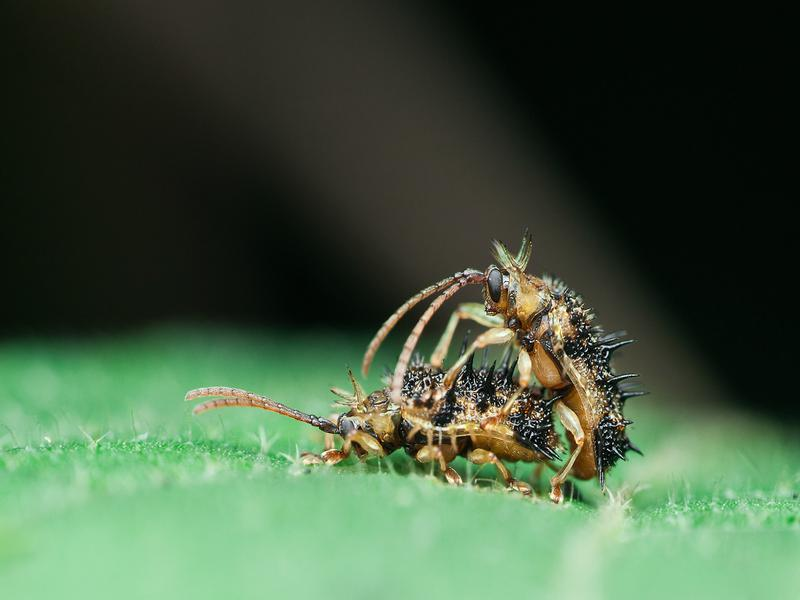Spiny_beetle: (237, 253, 645, 523)
